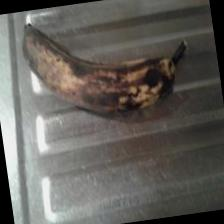Banana Rotten: (6, 0, 197, 139)
